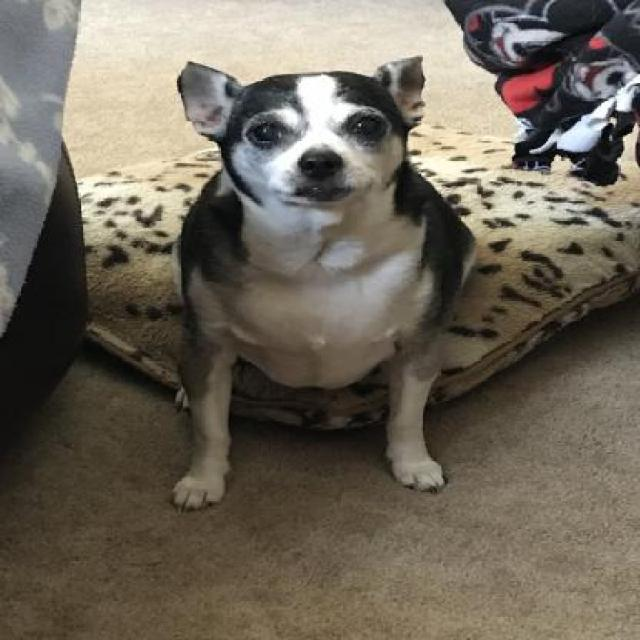Dog: (169, 54, 485, 514)
